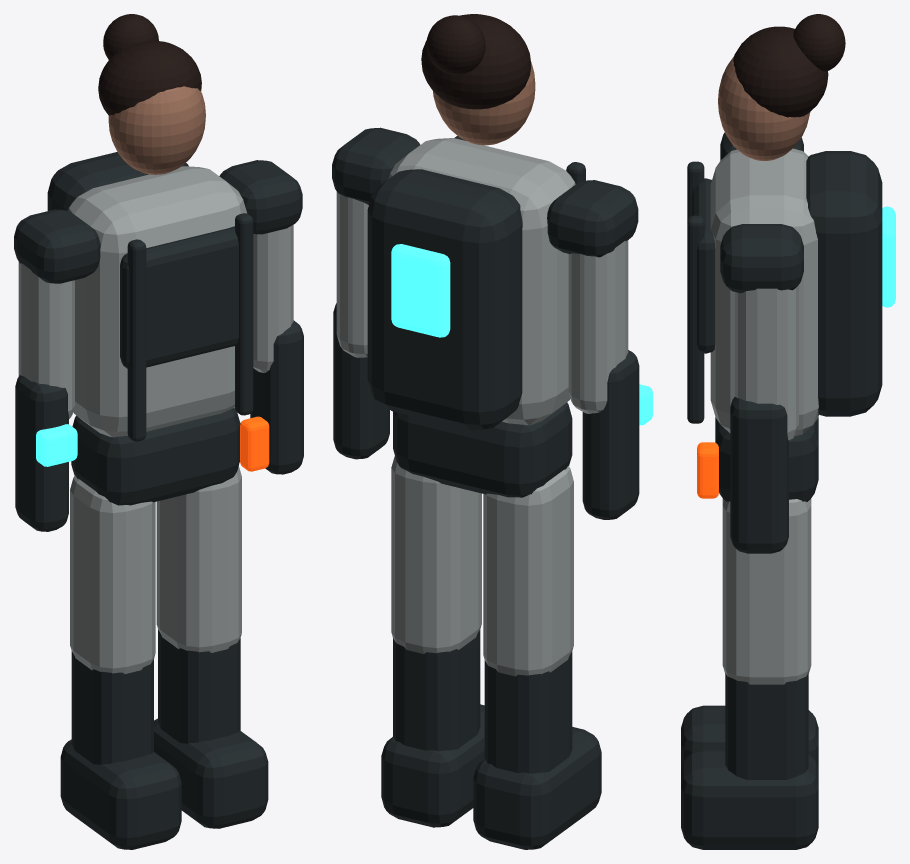
File: Researcher_FormProxy_v0.3.fbx
3 renders of one model, left to right at view 1: azimuth 30°, elevation 25°; view 2: azimuth 150°, elevation 25°; view 3: azimuth 270°, elevation 25°, orthographic. The views are drawn at different scales.
Visible parts, largest first — view 1: P03_Torso, P03_Thigh_-1, P03_Thigh_1, P03_ChestArmor, P03_Pelvis, P03_Boot_-1, P03_Boot_1, P03_Shin_1, P03_Shin_-1, P03_Forearm_-1, P03_Head, P03_UpperArm_-1 (+11 smaller); view 2: P03_Backpack, P03_Thigh_-1, P03_Torso, P03_Thigh_1, P03_Pelvis, P03_Boot_-1, P03_Shin_-1, P03_UpperArm_-1, P03_Shin_1, P03_Forearm_-1, P03_Boot_1, P03_HairCap (+7 smaller); view 3: P03_Backpack, P03_Torso, P03_Thigh_1, P03_Boot_1, P03_Forearm_1, P03_Shin_1, P03_UpperArm_1, P03_HairCap, P03_Shoulder_1, P03_Head, P03_Pelvis, P03_ChestArmor (+6 smaller).
Boxes of the visible parts, x1,y1,x2,y2 form: P03_Torso: (68,166,247,437); P03_Thigh_-1: (70,475,155,673); P03_Thigh_1: (156,466,241,652); P03_ChestArmor: (120,226,238,368); P03_Pelvis: (71,407,240,505); P03_Boot_-1: (60,739,181,849); P03_Boot_1: (154,718,268,828); P03_Shin_1: (158,629,240,743); P03_Shin_-1: (71,651,153,764); P03_Forearm_-1: (15,375,68,531); P03_Head: (108,86,205,174); P03_UpperArm_-1: (18,262,74,418); P03_Backpack: (367,169,522,430); P03_Thigh_-1: (483,466,573,676); P03_Torso: (388,138,575,425); P03_Thigh_1: (391,456,481,653); P03_Pelvis: (393,402,572,497); P03_Boot_-1: (473,727,601,849); P03_Shin_-1: (484,652,572,773); P03_UpperArm_-1: (568,240,628,413); P03_Shin_1: (393,629,480,751); P03_Forearm_-1: (582,350,639,519); P03_Boot_1: (381,704,484,827); P03_HairCap: (421,14,531,109); P03_Backpack: (806,151,882,416); P03_Torso: (710,148,818,435); P03_Thigh_1: (722,498,811,684); P03_Boot_1: (681,749,818,849); P03_Forearm_1: (730,397,788,553); P03_Shin_1: (725,673,808,779); P03_UpperArm_1: (735,285,798,441); P03_HairCap: (733,26,828,117); P03_Shoulder_1: (720,224,803,293); P03_Head: (718,56,810,160); P03_Pelvis: (715,417,818,501); P03_ChestArmor: (692,178,715,353).
Size of the model in its own units: 66.25 by 180 by 43.75.
